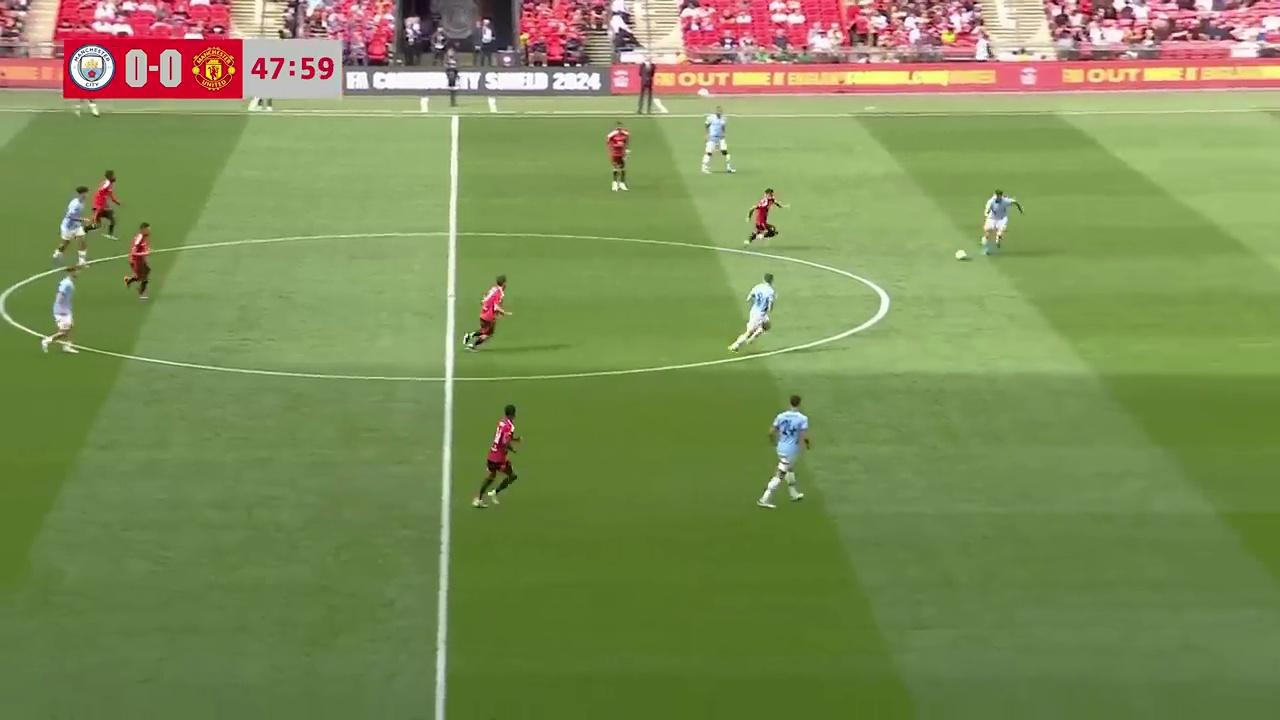ball: (953, 246, 968, 262)
player: (757, 395, 811, 508), (471, 405, 521, 509), (41, 262, 83, 355), (728, 273, 776, 350), (465, 275, 511, 351), (53, 189, 90, 262), (982, 188, 1022, 252), (87, 170, 123, 240), (744, 186, 788, 243), (123, 221, 151, 300), (701, 107, 734, 174), (606, 122, 630, 192)
